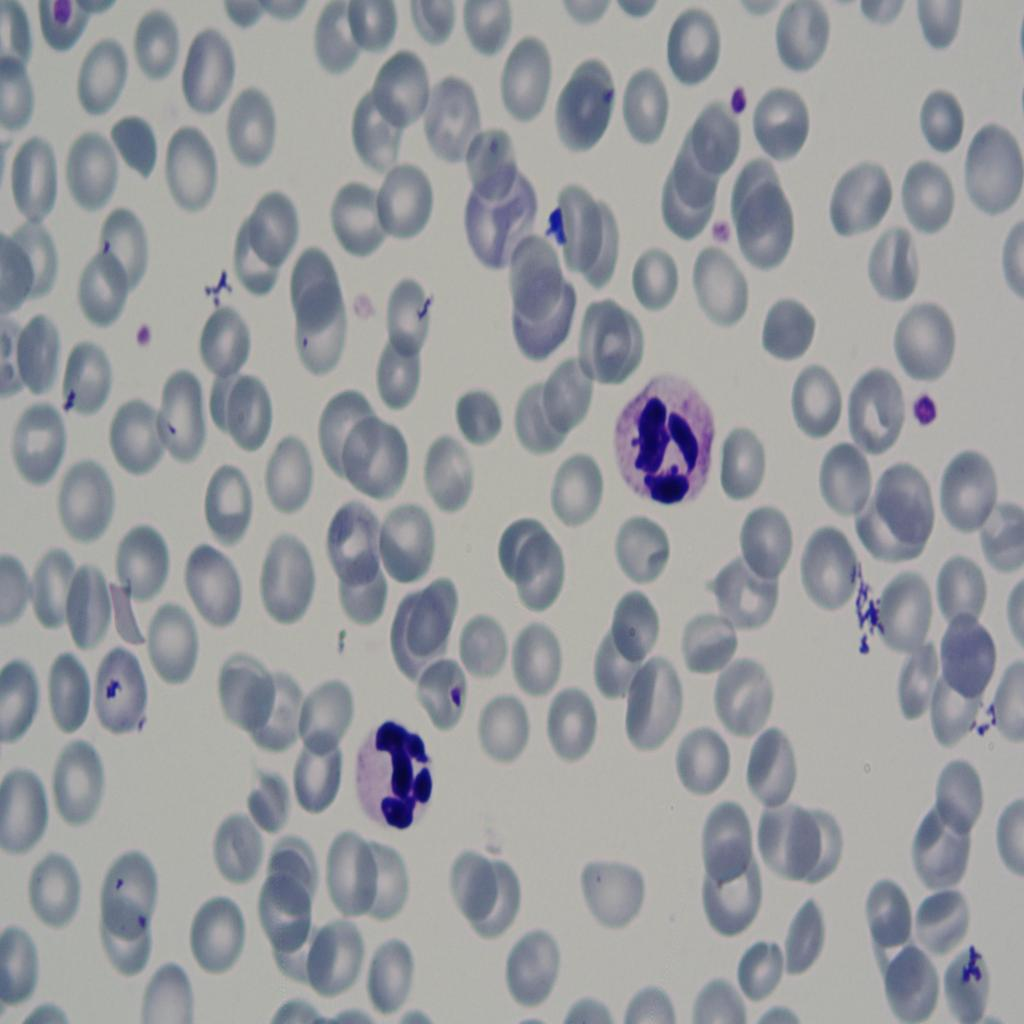Neutrofil: (618, 366, 715, 516), (340, 710, 430, 836)
Platelet: (696, 213, 746, 265), (716, 71, 754, 126), (906, 384, 943, 437), (540, 198, 574, 244), (125, 308, 153, 356)
